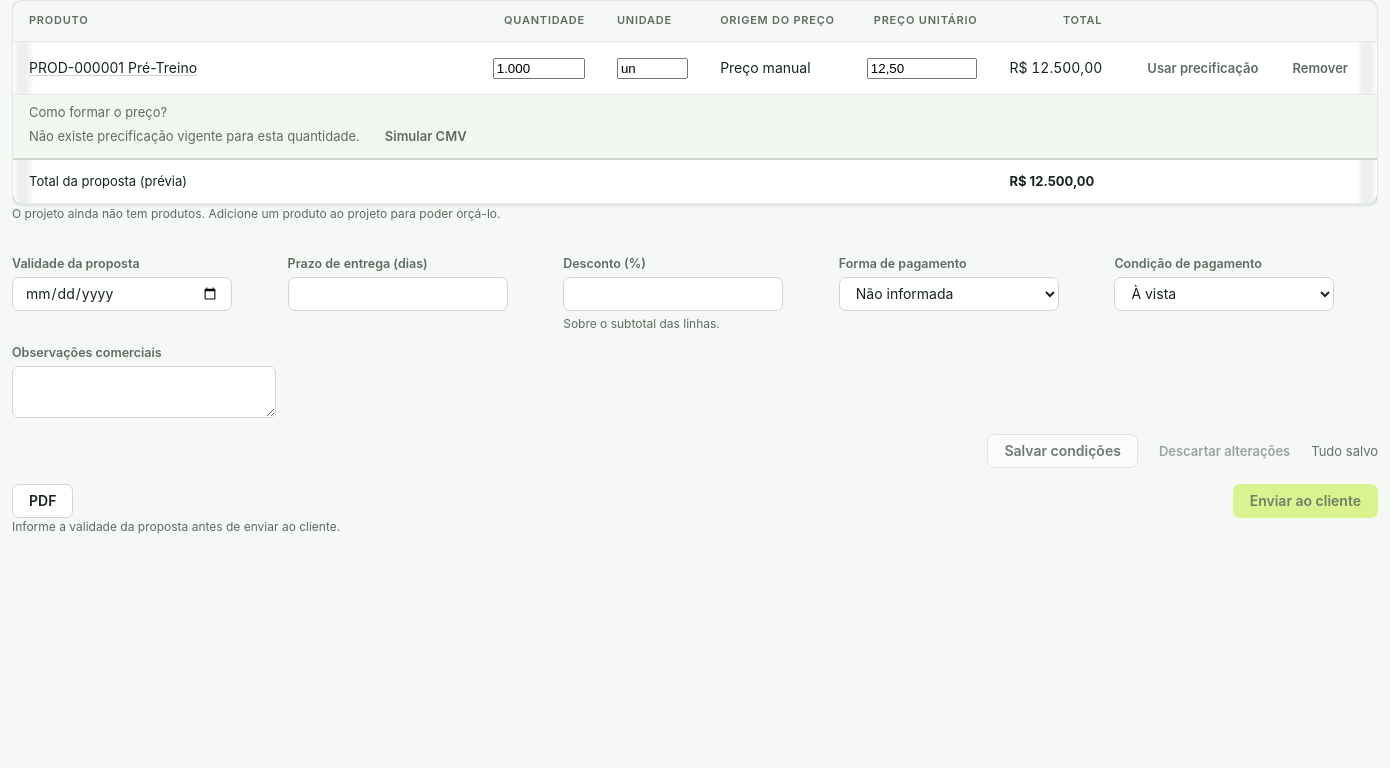
Test: #8H — orçamento em edição mostra o total do que está na tela › B. mudar o preço muda o subtotal da linha na hora
The image size is (1390, 768).
Replace the text in the field named "Preço unitário de PROD-000001" with "13,25": point(922, 68) left=867, top=58, right=977, bottom=79
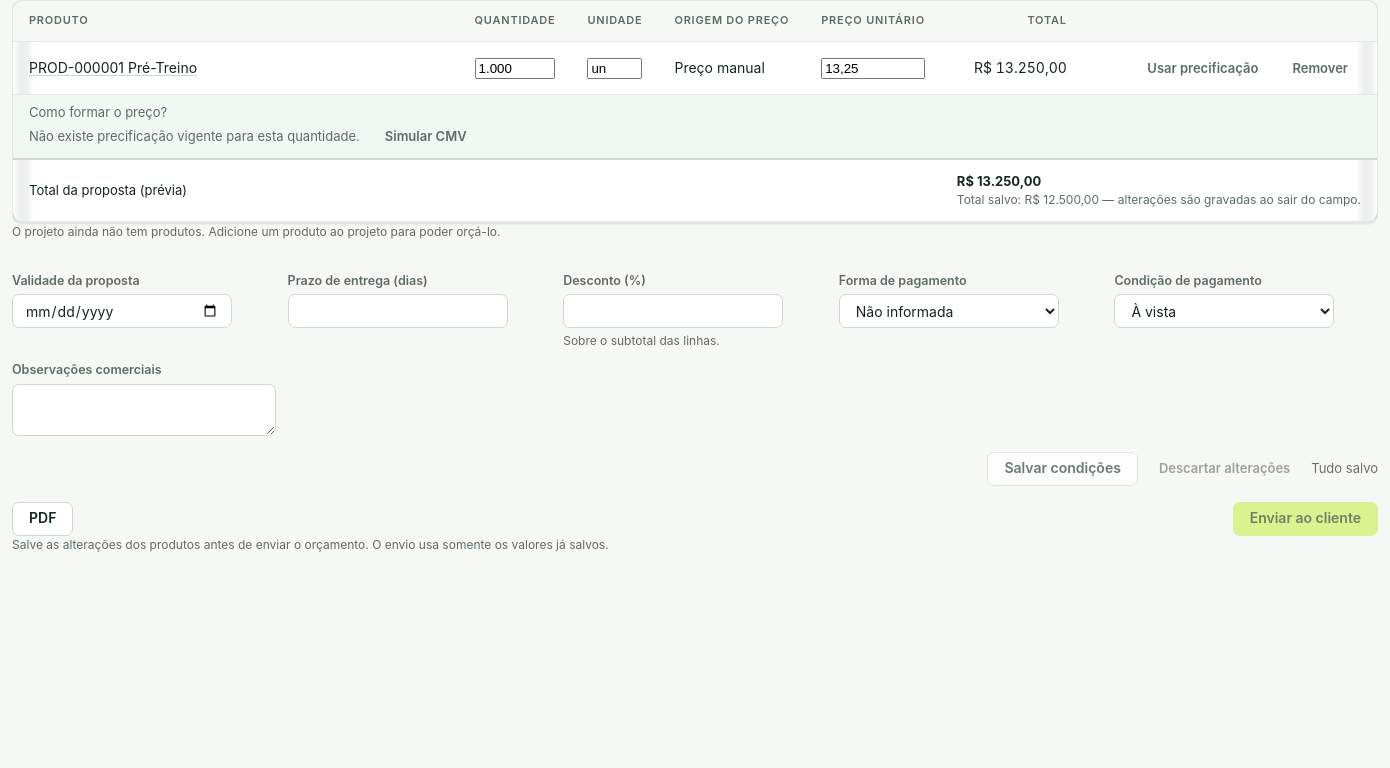
Now the cell "R$ 13.250,00" is shown, box left=941, top=41, right=1083, bottom=95
